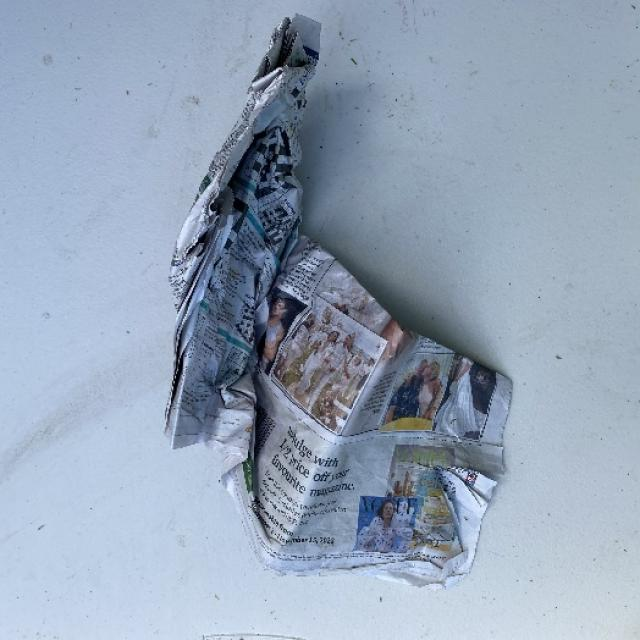kertas: (138, 21, 540, 586)
